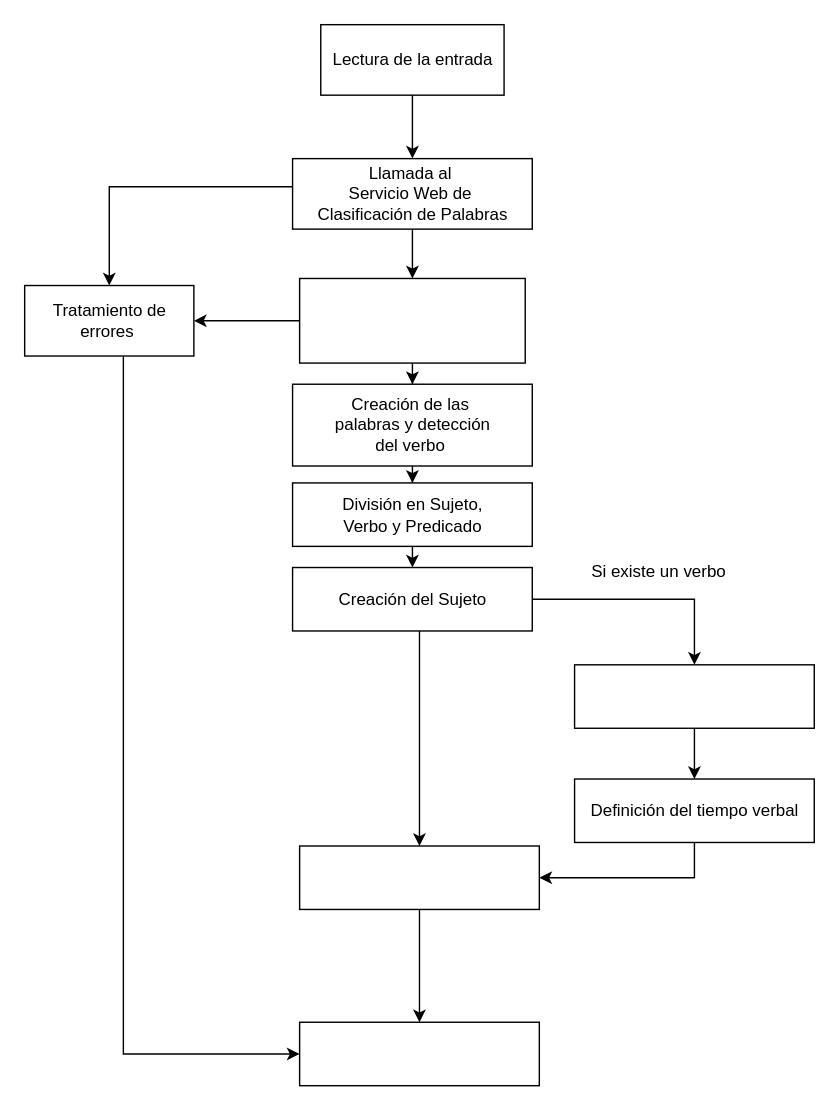
This 839x1111 diagram has some shape labels left out. Here are the shapes that lost their labels. From the top down, the centre of each, then its label:
At pixel 411 320: "Llamada al Servicio Web de Detección de Tiempo Verbal".
At pixel 693 695: "Creación del objeto".
At pixel 418 877: "Realización".
At pixel 418 1053: "Respuesta del Servicio Web".
